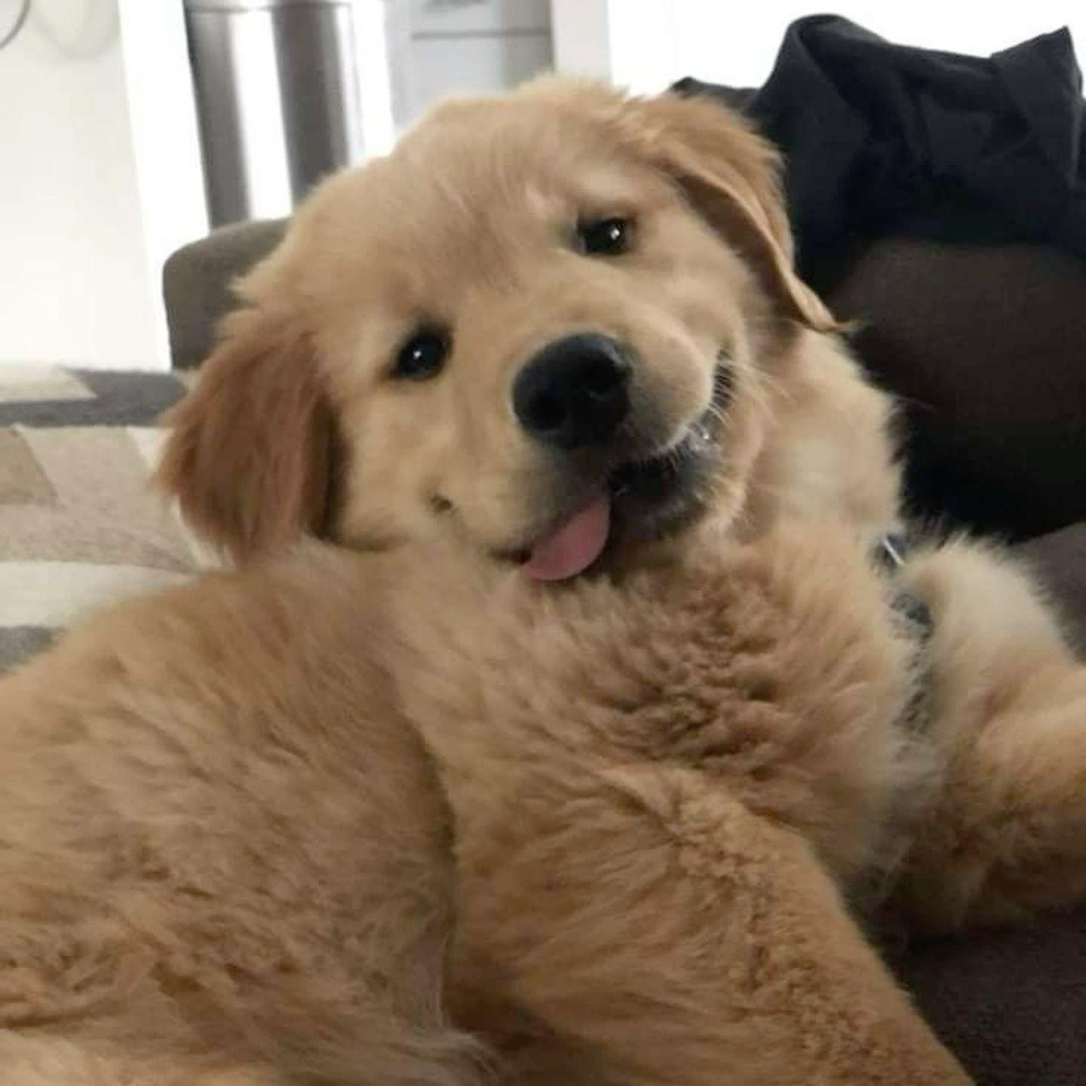puppy-dog: (0, 73, 1086, 1086)
